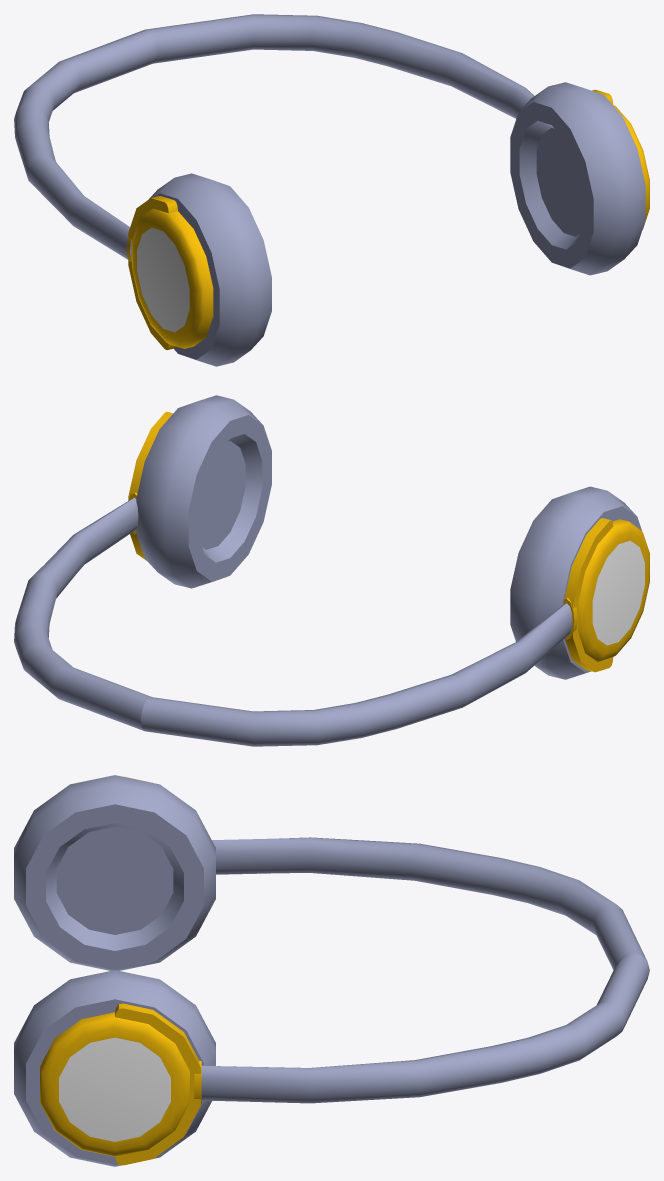
The model's file is Head Phone_2C.fbx.
The picture shows the model from 3 angles, top to bottom: view 1: azimuth 30°, elevation 25°; view 2: azimuth 150°, elevation 25°; view 3: azimuth 270°, elevation 25°; orthographic projection. The views are drawn at different scales.
Visible parts, largest first — view 1: Head Phone_2C; view 2: Head Phone_2C; view 3: Head Phone_2C.
Boxes of the visible parts, x1,y1,x2,y2 form: Head Phone_2C: [14, 14, 649, 366]; Head Phone_2C: [14, 395, 649, 746]; Head Phone_2C: [14, 775, 649, 1166].
Size of the model in its own units: 0.1887 by 0.0685 by 0.2101.
